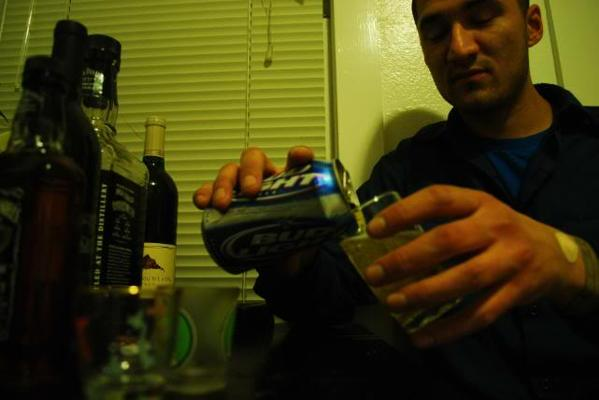person: (192, 4, 599, 400)
